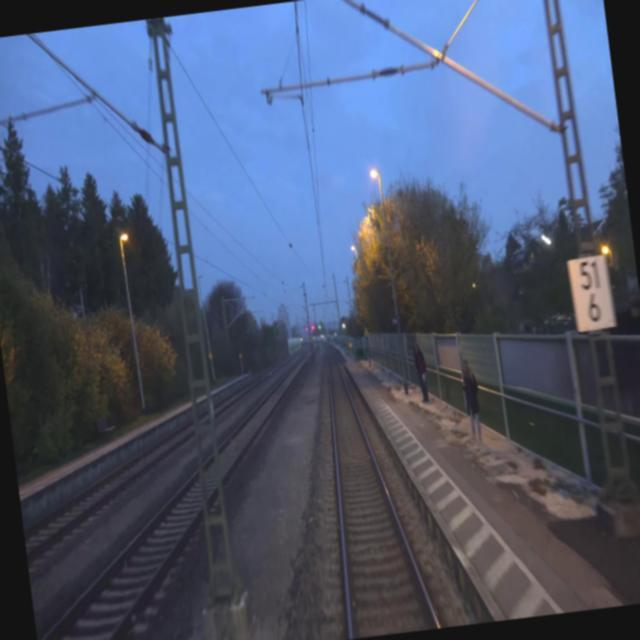rail: (319, 343, 479, 638)
